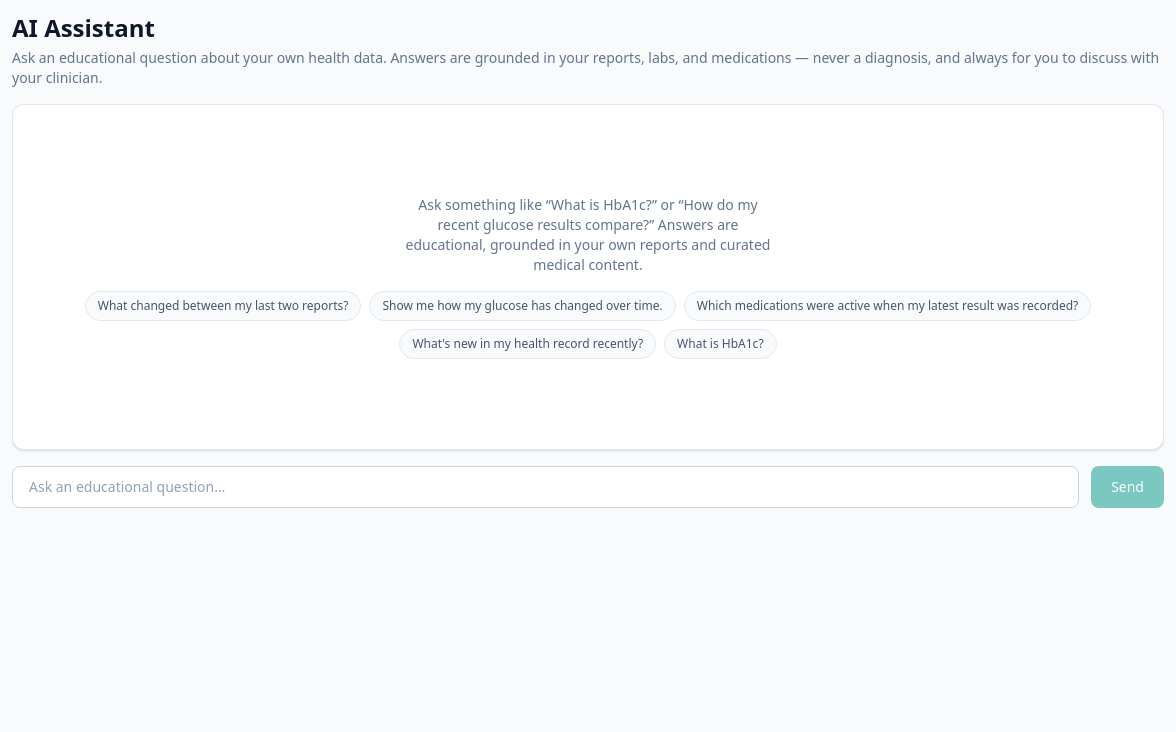
Test: Assistant › surfaces a fallback message on failure
Type "hello" into the field with placeholder "Ask an educational question…". click: (546, 487)
box: [12, 466, 1079, 508]
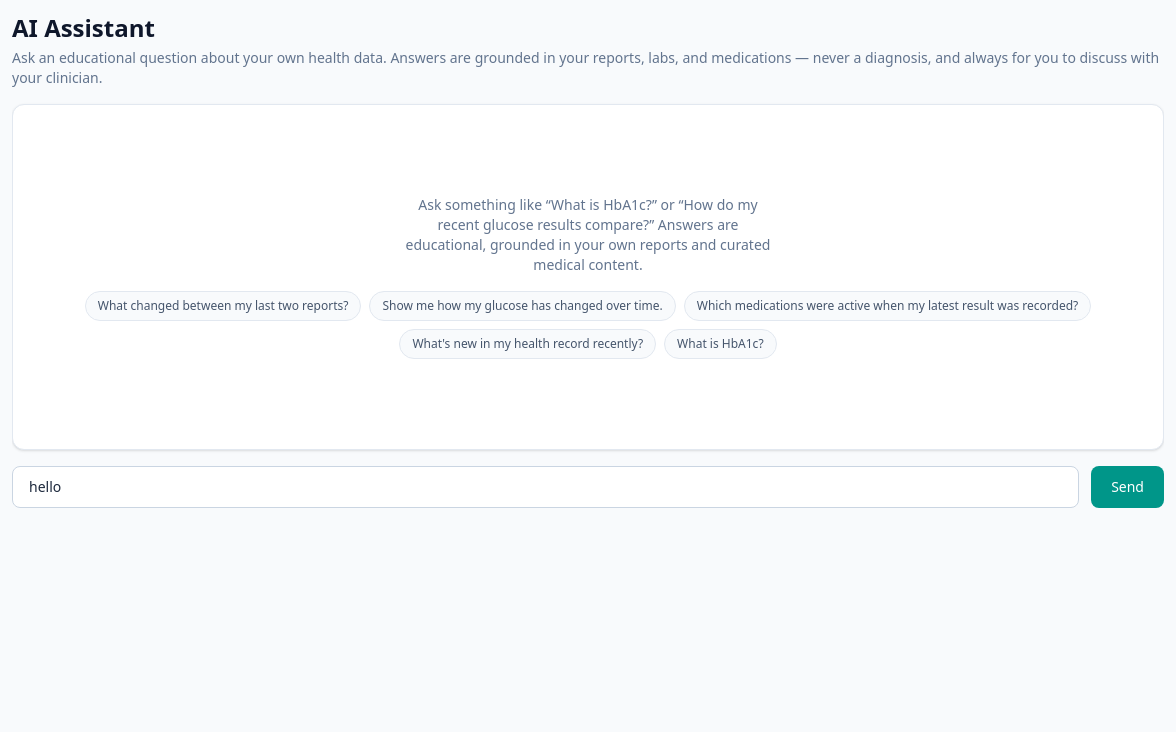
Submit the form, box [12, 466, 1164, 508]
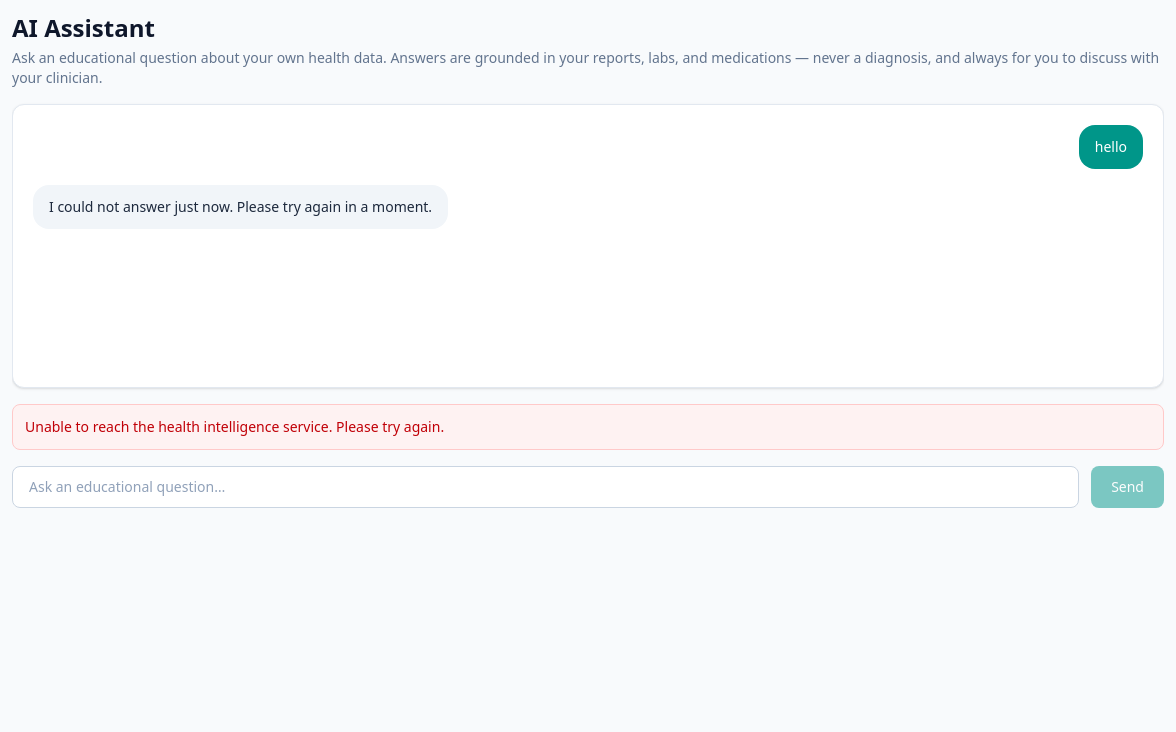
Check: the text "could not answer just now" is shown, box [49, 197, 432, 216]
